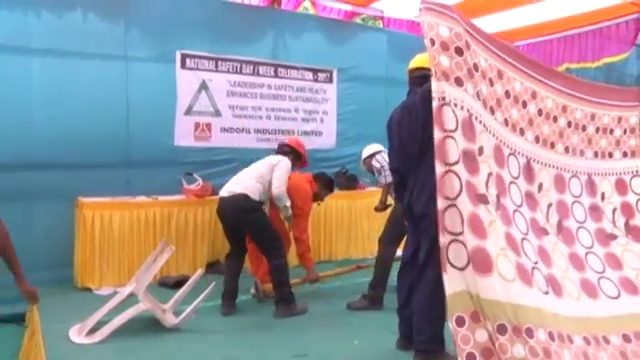helmet: (284, 135, 311, 169), (357, 142, 387, 172), (403, 50, 432, 73)
helmet_off: (311, 169, 336, 207)
helmet_on: (402, 50, 432, 91), (273, 136, 309, 170), (357, 141, 384, 176)
person: (388, 50, 454, 360), (212, 134, 307, 321), (247, 171, 334, 298), (353, 141, 401, 315)
